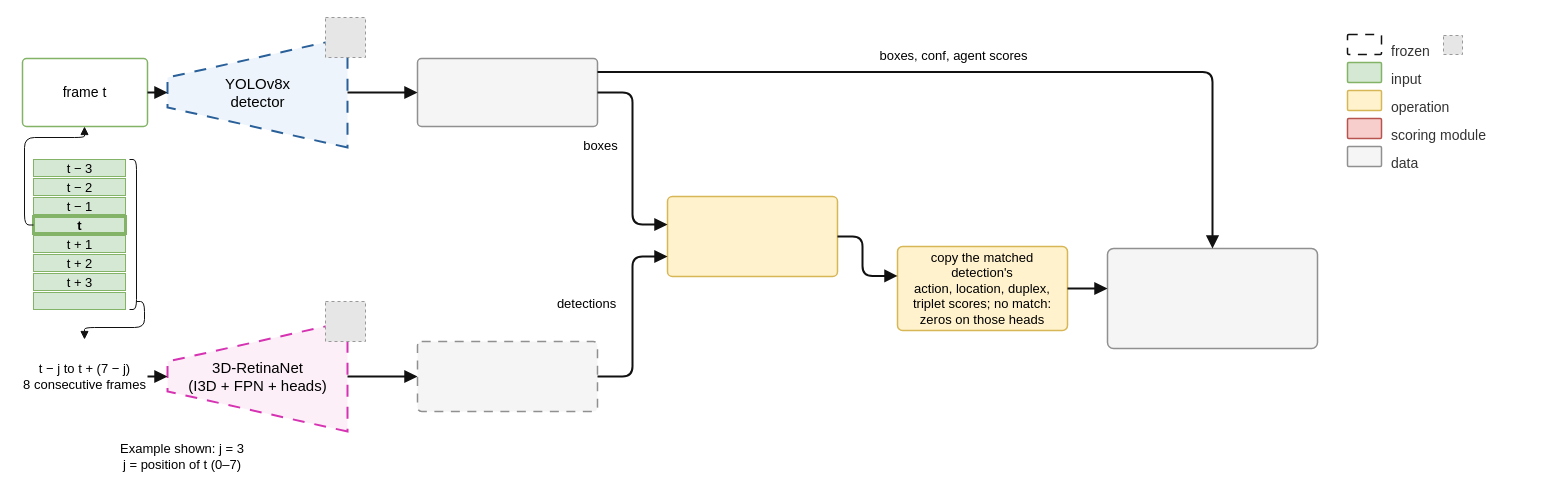
The diagram is 1557 pixels wide and 495 high, and some of its shapes have lost their labels. Grey dashed boxes stand in for pictures. Here are the shapes that lost their labels. From the top down, the centre of each, then its label:
the point at 507,92: boxes, conf, agent class; up to 300 per frame
the point at 752,236: match by overlap (IoU >= 0.5)
the point at 79,301: t + 4
the point at 1212,298: per-frame detections: boxes scored across 184 classes
the point at 507,376: 3D-RetinaNet detections + 184 scores per frame
